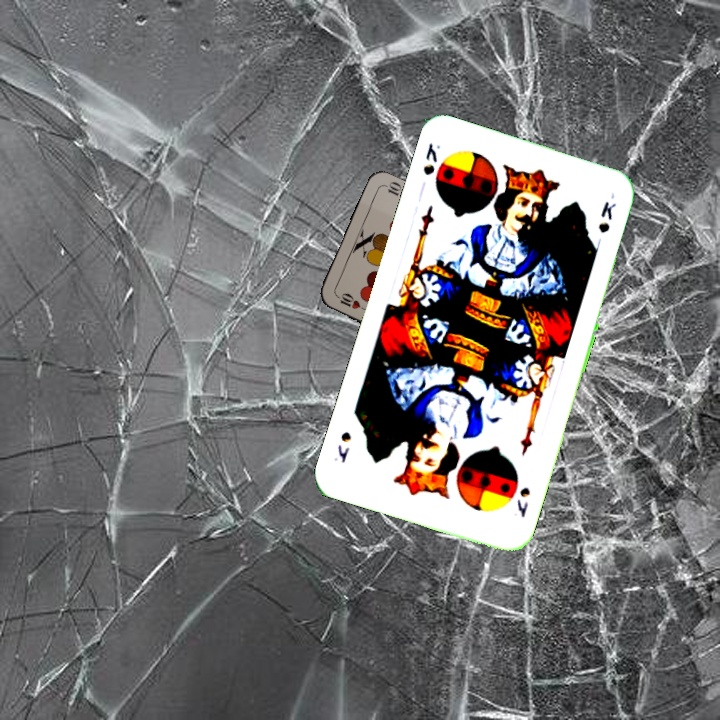H10: (331, 289, 369, 313)
SK: (419, 139, 443, 178), (513, 483, 533, 520)
